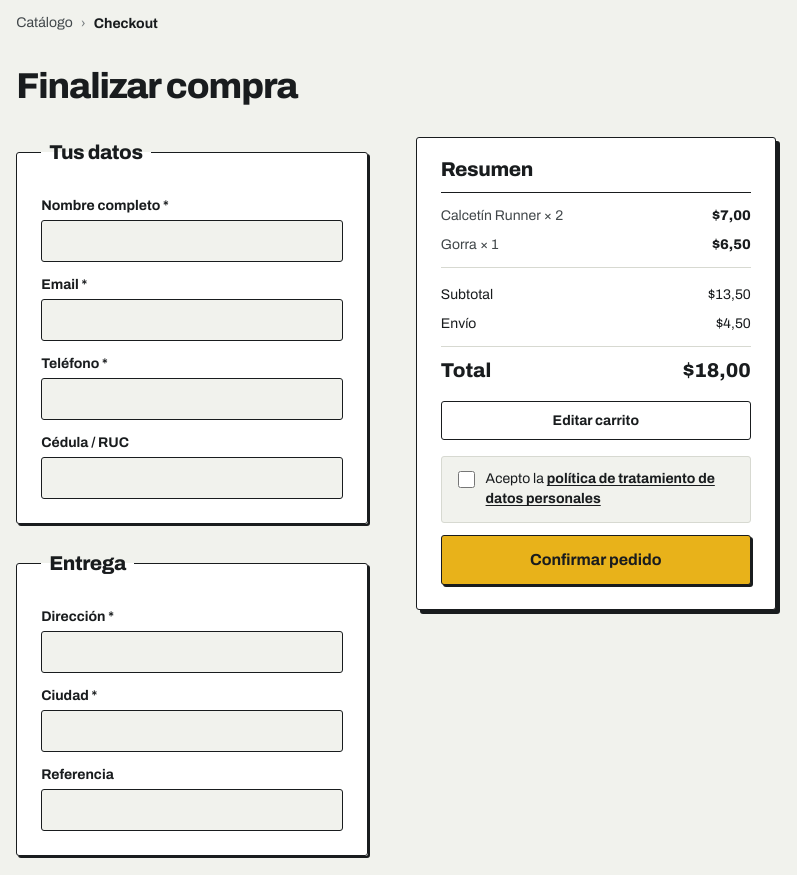
Test: CheckoutPage › exige aceptar la política de datos antes de enviar
Type "Ana Pérez" into the field labelled "Nombre completo *" at (192, 241), box [41,220,343,262]
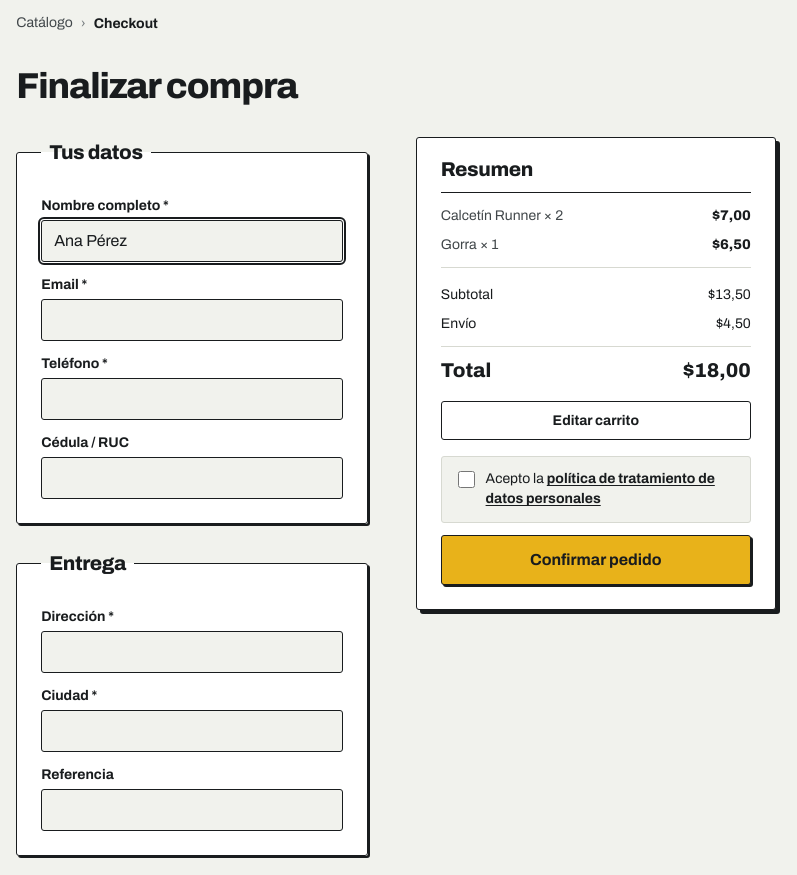
Type "ana@example.com" into the field labelled "Email *" at (192, 320), box [41,299,343,341]
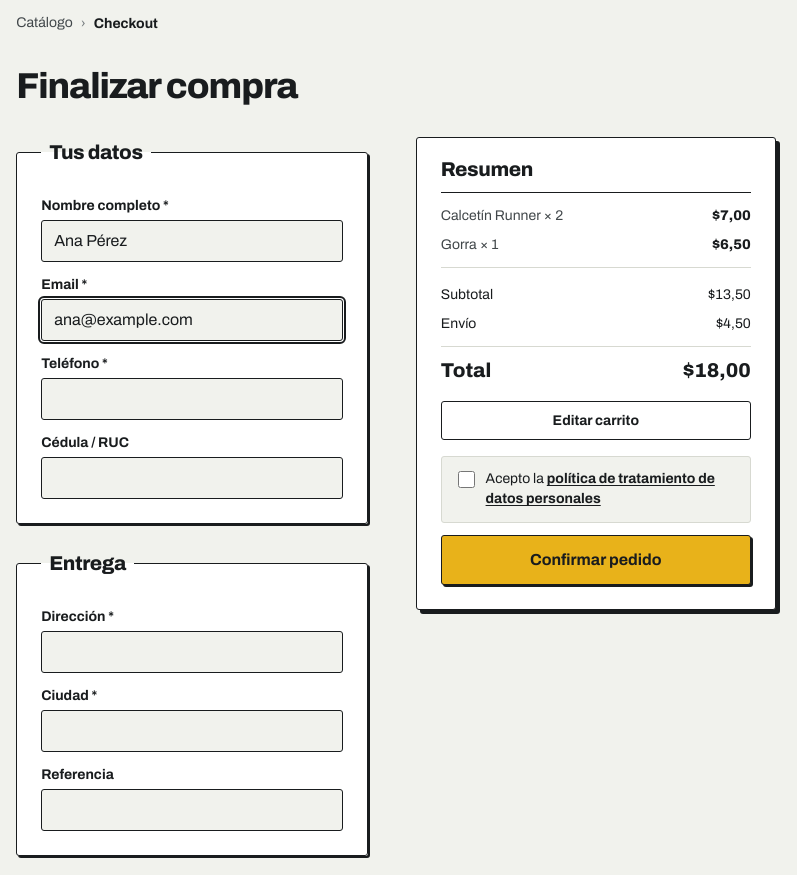
Type "0991234567" into the field labelled "Teléfono *" at (192, 399), box [41,378,343,420]
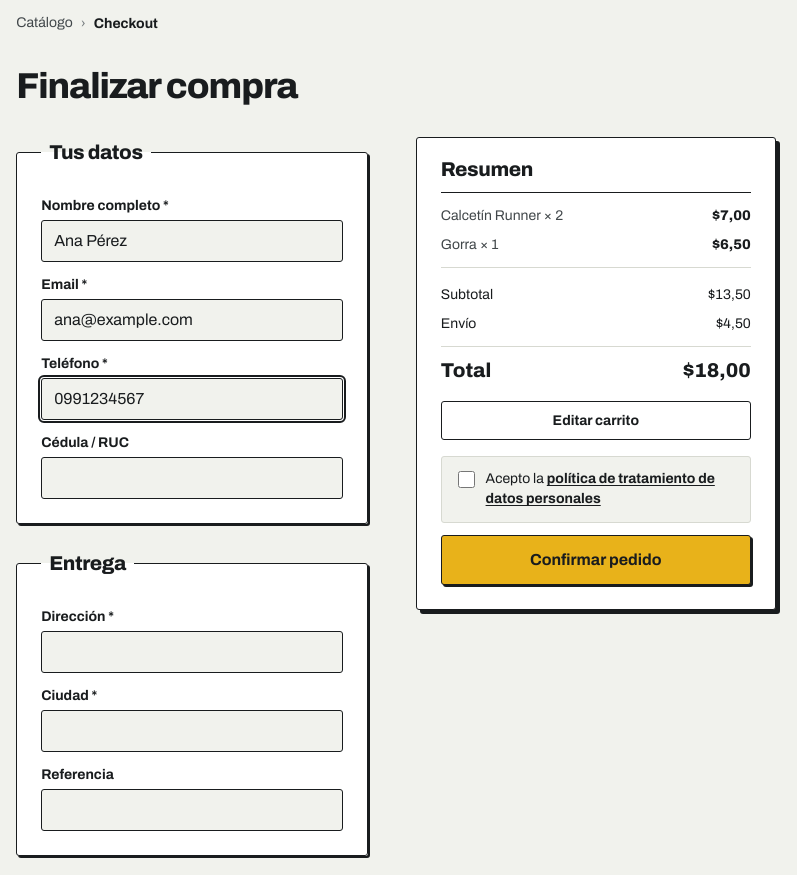
Type "Av. Siempre Viva 123" into the field labelled "Dirección *" at (192, 652), box [41,631,343,673]
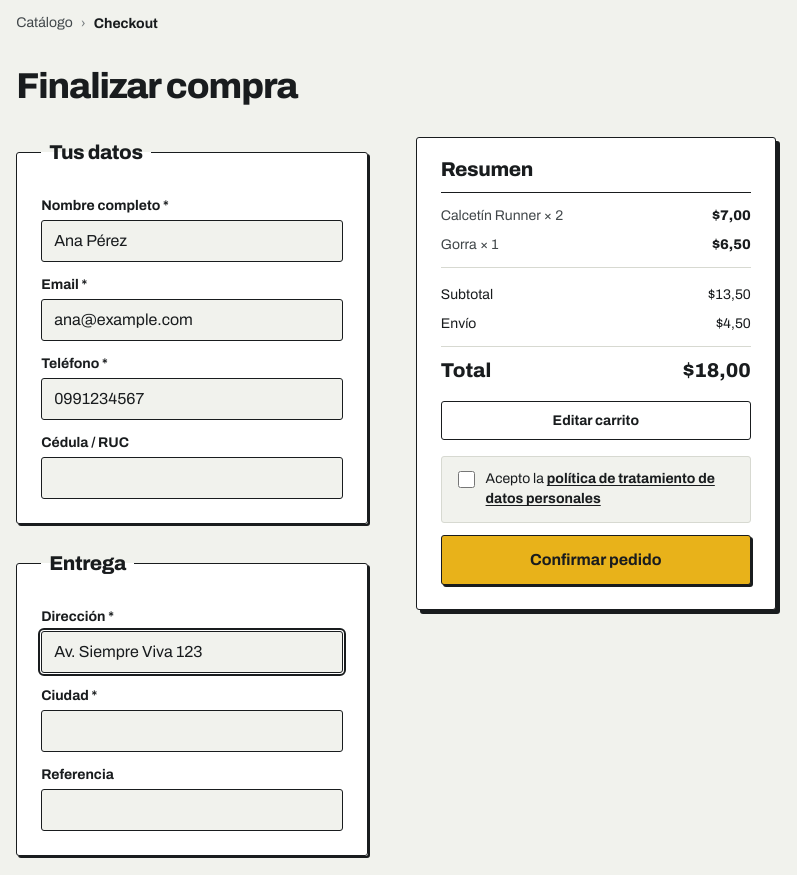
Type "Quito" into the field labelled "Ciudad *" at (192, 731), box [41,710,343,752]
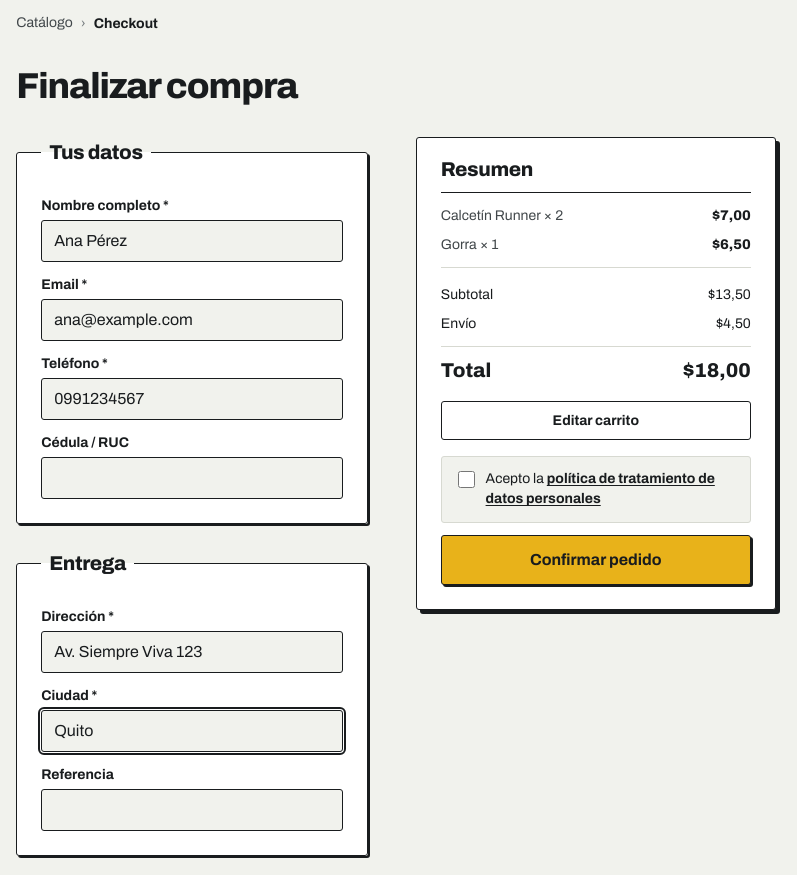
Click the button "Confirmar pedido" at (596, 560), box [441,535,751,585]
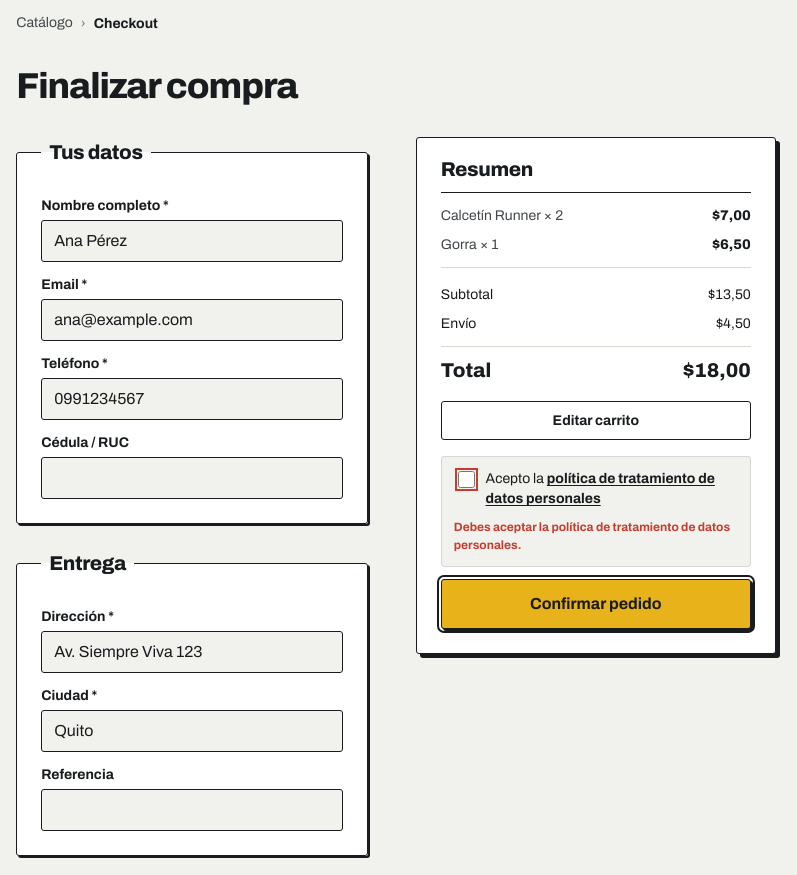
Check: the text "Debes aceptar la política de tratamiento de datos personales." is shown, box [454,518,738,554]
